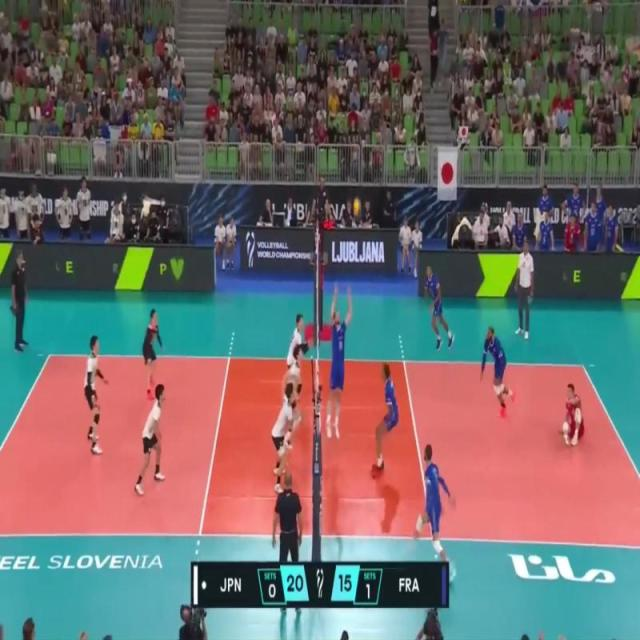volleyball: (351, 198, 362, 215)
